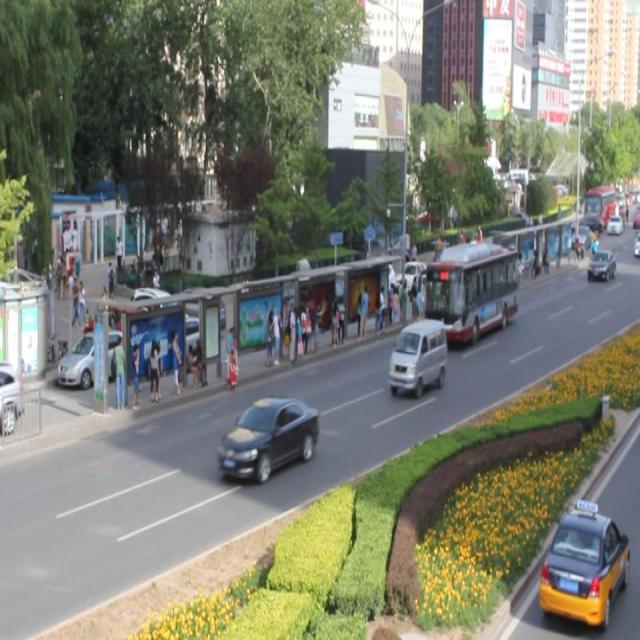car: (219, 395, 319, 476)
truck: (389, 319, 446, 392)
van: (426, 243, 517, 342)
